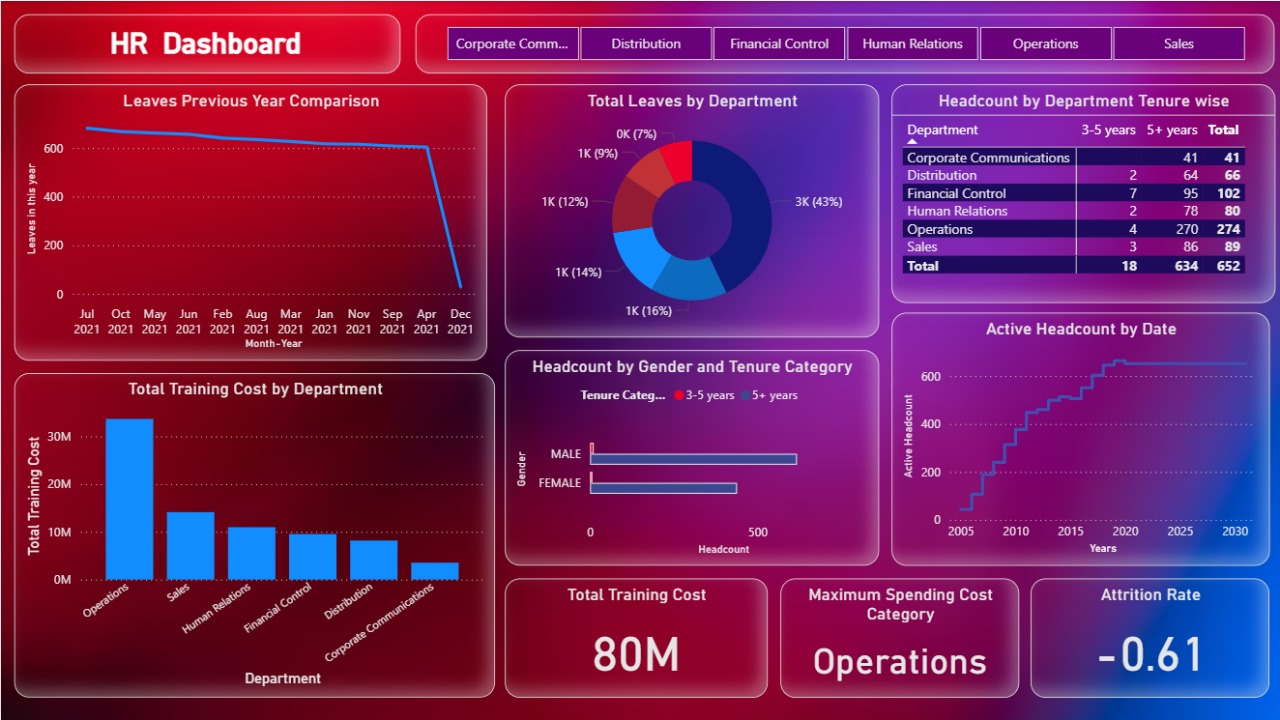

This screenshot's page, from the dashboard's own definition file:
{"tool":"powerbi","page":{"name":"Page 1","canvas":[1280,720],"ordinal":0},"visuals":[{"type":"pivotTable","title":"Headcount by Department Tenure wise","fields":{"Rows":["Department.Department"],"Columns":["Employee.Tenure Category"],"Values":["Employee.Active Employees"]},"box":[889.2,83.7,382.8,218.2],"z":0},{"type":"lineClusteredColumnComboChart","fields":{"Category":["Calendar.Date.Variation.Date Hierarchy.Year"],"Y2":["Calendar.Active Headcount"]},"box":[889.2,311.5,377.4,252.5],"z":1000},{"type":"clusteredBarChart","title":"Headcount by  Gender and Tenure Category","fields":{"Series":["Employee.Tenure Category"],"Category":["Employee._Sex"],"Y":["Calendar.Headcount"]},"box":[503.6,348.5,373.2,215.4],"z":2000},{"type":"card","title":"Attrition Rate","fields":{"Values":["Calendar.Attrition Rate"]},"box":[1027.8,576.3,238.8,119.4],"z":3000},{"type":"donutChart","title":"Total Leaves by Department ","fields":{"Category":["Department.Department"],"Y":["Calendar.Total Leaves by Department"]},"box":[503.6,83.7,373.2,252.5],"z":4000},{"type":"card","title":"Maximum Spending Cost Category","fields":{"Values":["Calendar.Max Training Cost Department"]},"box":[778,576.3,238.8,119.4],"z":5000},{"type":"card","title":"Total Training Cost","fields":{"Values":["Calendar.Total Training Cost"]},"box":[503.6,576.3,262.1,119.4],"z":6000},{"type":"columnChart","fields":{"Y":["Calendar.Total Training Cost"],"Category":["Department.Department"]},"box":[13.7,371.9,480.3,323.8],"z":7000},{"type":"lineClusteredColumnComboChart","title":"Leaves Previous Year Comparison","fields":{"Category":["Calendar.Month-Year"],"Y2":["Calendar.Leaves Previous Year"]},"box":[13.7,83.7,472,275.8],"z":8000},{"type":"textbox","box":[13.7,13.7,385.6,59],"z":9000},{"type":"slicer","fields":{"Values":["Department.Department"]},"box":[414.4,13.7,857.6,59],"z":10000}]}

Visuals, with their boxes in screenshot pixels (x1, y1, x2, y2), scaled from the page's 1280x720 canvas onto the 1280x720 screenshot:
"Headcount by Department Tenure wise" pivotTable: bbox=(889, 84, 1272, 302)
lineClusteredColumnComboChart - Calendar.Date.Variation.Date Hierarchy.Year x Calendar.Active Headcount: bbox=(889, 312, 1267, 564)
"Headcount by  Gender and Tenure Category" clusteredBarChart: bbox=(504, 348, 877, 564)
"Attrition Rate" card: bbox=(1028, 576, 1267, 696)
"Total Leaves by Department " donutChart: bbox=(504, 84, 877, 336)
"Maximum Spending Cost Category" card: bbox=(778, 576, 1017, 696)
"Total Training Cost" card: bbox=(504, 576, 766, 696)
columnChart - Calendar.Total Training Cost x Department.Department: bbox=(14, 372, 494, 696)
"Leaves Previous Year Comparison" lineClusteredColumnComboChart: bbox=(14, 84, 486, 360)
textbox: bbox=(14, 14, 399, 73)
slicer - Department.Department: bbox=(414, 14, 1272, 73)
